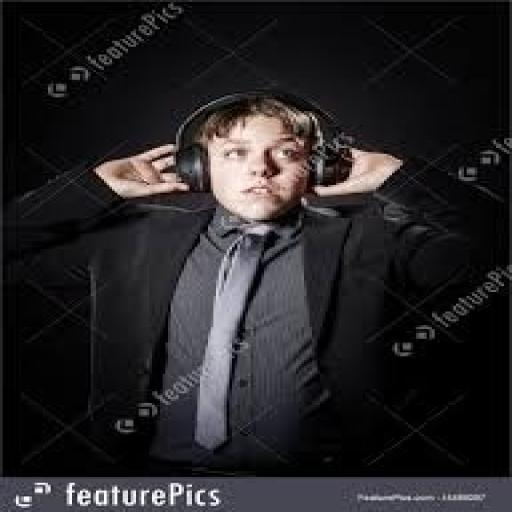listening_to_music: (3, 86, 480, 475)
